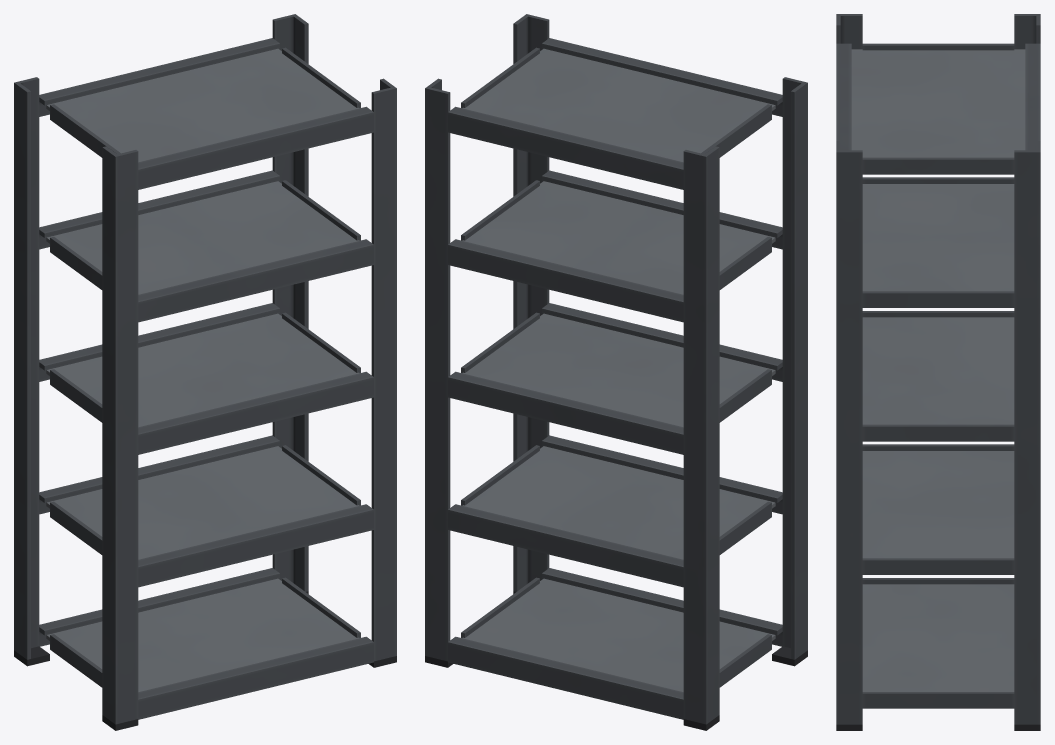
The model's file is item.obj.
The picture shows the model from 3 angles, left to right: view 1: azimuth 30°, elevation 25°; view 2: azimuth 150°, elevation 25°; view 3: azimuth 270°, elevation 25°; orthographic projection.
Parts seen in each view (by area): view 1: core_lower__core_lower_deck, core_upper__core_upper_deck, core_lower__core_lower_beams, end_left_lower__end_left_lower_posts, end_left_upper__end_left_upper_posts, core_upper__core_upper_beams, end_right_upper__end_right_upper_posts, end_right_lower__end_right_lower_posts, end_left_lower__end_left_lower_beams, end_right_lower__end_right_lower_beams, end_left_upper__end_left_upper_beams, end_right_upper__end_right_upper_beams (+3 smaller); view 2: core_lower__core_lower_deck, core_upper__core_upper_deck, core_lower__core_lower_beams, end_left_lower__end_left_lower_posts, end_left_upper__end_left_upper_posts, core_upper__core_upper_beams, end_right_upper__end_right_upper_posts, end_right_lower__end_right_lower_posts, end_left_lower__end_left_lower_beams, end_right_lower__end_right_lower_beams, end_left_upper__end_left_upper_beams, end_right_upper__end_right_upper_beams (+3 smaller); view 3: core_lower__core_lower_deck, core_upper__core_upper_deck, end_right_lower__end_right_lower_posts, end_right_upper__end_right_upper_posts, end_right_lower__end_right_lower_beams, end_right_upper__end_right_upper_beams, end_left_lower__end_left_lower_beams, core_upper__core_upper_beams, end_left_upper__end_left_upper_beams, end_left_lower__end_left_lower_deck, end_left_upper__end_left_upper_posts, end_left_upper__end_left_upper_deck.
Boxes of the visible parts, x1,y1,x2,y2 form: core_lower__core_lower_deck: (57, 316, 348, 691); core_upper__core_upper_deck: (57, 51, 348, 294); core_lower__core_lower_beams: (49, 306, 361, 716); end_left_lower__end_left_lower_posts: (14, 358, 138, 724); end_left_upper__end_left_upper_posts: (14, 77, 138, 436); core_upper__core_upper_beams: (49, 41, 361, 319); end_right_upper__end_right_upper_posts: (272, 14, 396, 373); end_right_lower__end_right_lower_posts: (272, 296, 396, 661); end_left_lower__end_left_lower_beams: (39, 357, 150, 719); end_right_lower__end_right_lower_beams: (260, 303, 373, 665); end_left_upper__end_left_upper_beams: (39, 92, 150, 322); end_right_upper__end_right_upper_beams: (260, 38, 373, 267); core_lower__core_lower_deck: (473, 316, 764, 691); core_upper__core_upper_deck: (473, 51, 764, 294); core_lower__core_lower_beams: (460, 306, 772, 716); end_left_lower__end_left_lower_posts: (683, 358, 807, 724); end_left_upper__end_left_upper_posts: (683, 77, 807, 436); core_upper__core_upper_beams: (460, 41, 772, 319); end_right_upper__end_right_upper_posts: (425, 14, 549, 373); end_right_lower__end_right_lower_posts: (425, 296, 549, 661); end_left_lower__end_left_lower_beams: (671, 357, 782, 719); end_right_lower__end_right_lower_beams: (448, 303, 561, 665); end_left_upper__end_left_upper_beams: (671, 92, 782, 322); end_right_upper__end_right_upper_beams: (448, 38, 561, 267); core_lower__core_lower_deck: (862, 321, 1014, 691); core_upper__core_upper_deck: (851, 54, 1025, 291); end_right_lower__end_right_lower_posts: (836, 434, 1040, 724); end_right_upper__end_right_upper_posts: (836, 141, 1040, 434); end_right_lower__end_right_lower_beams: (862, 424, 1014, 708); end_right_upper__end_right_upper_beams: (862, 157, 1014, 307); end_left_lower__end_left_lower_beams: (862, 311, 1014, 584); core_upper__core_upper_beams: (836, 50, 1040, 150); end_left_upper__end_left_upper_beams: (836, 43, 1040, 183); end_left_lower__end_left_lower_deck: (862, 317, 1014, 588); end_left_upper__end_left_upper_posts: (836, 14, 1040, 49); end_left_upper__end_left_upper_deck: (851, 49, 1025, 187).
Size of the model in its own units: 1 by 1.95 by 0.625.
